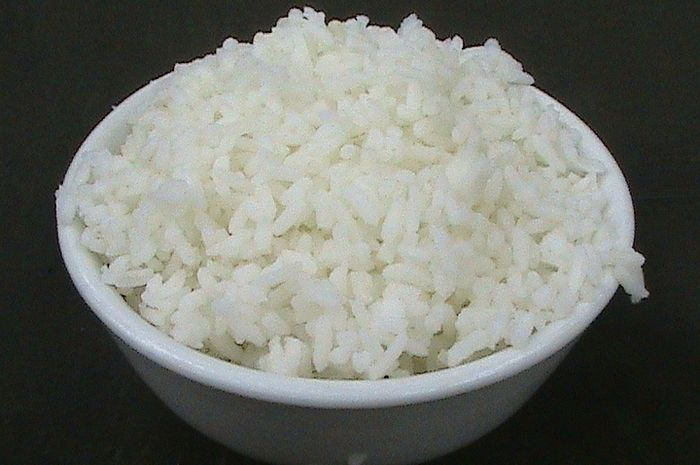Nasi Putih: (38, 5, 645, 425)
